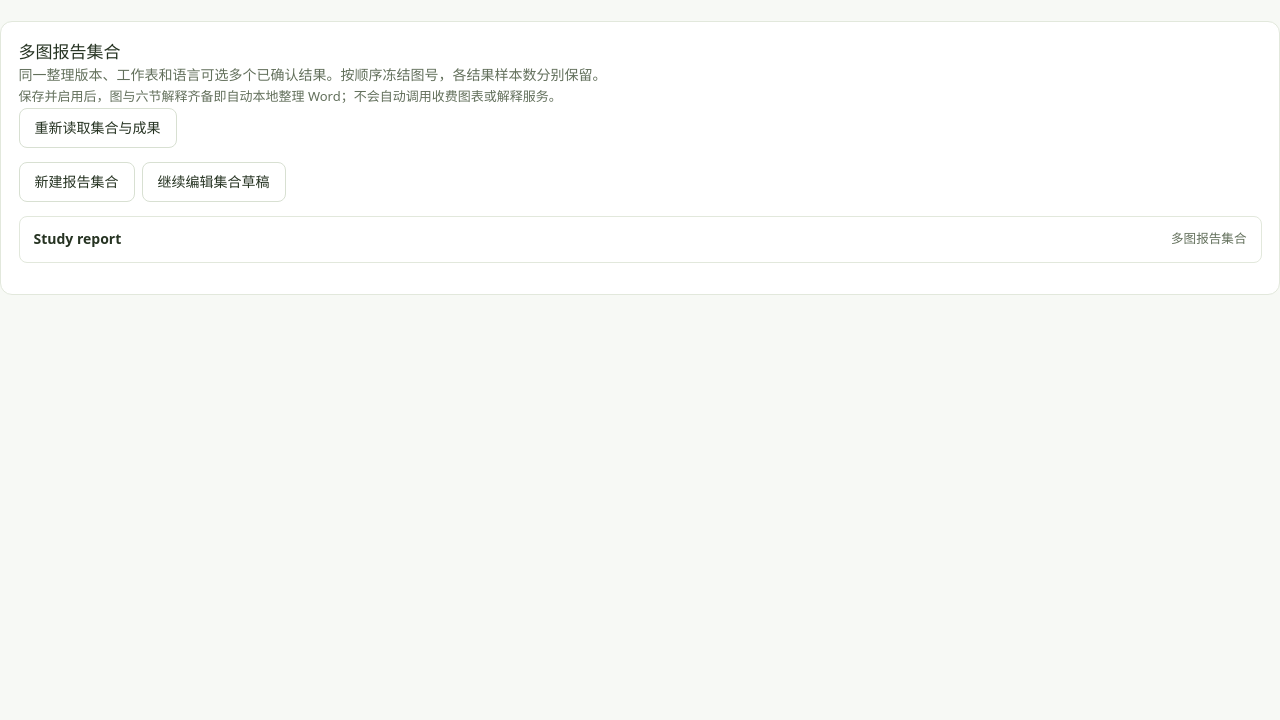
Test: finishing a requested collection preview never takes the user back from the list
Click the button with aria-label "打开报告集合 Study report" at coordinates (77, 239), box [18,216,1262,263]
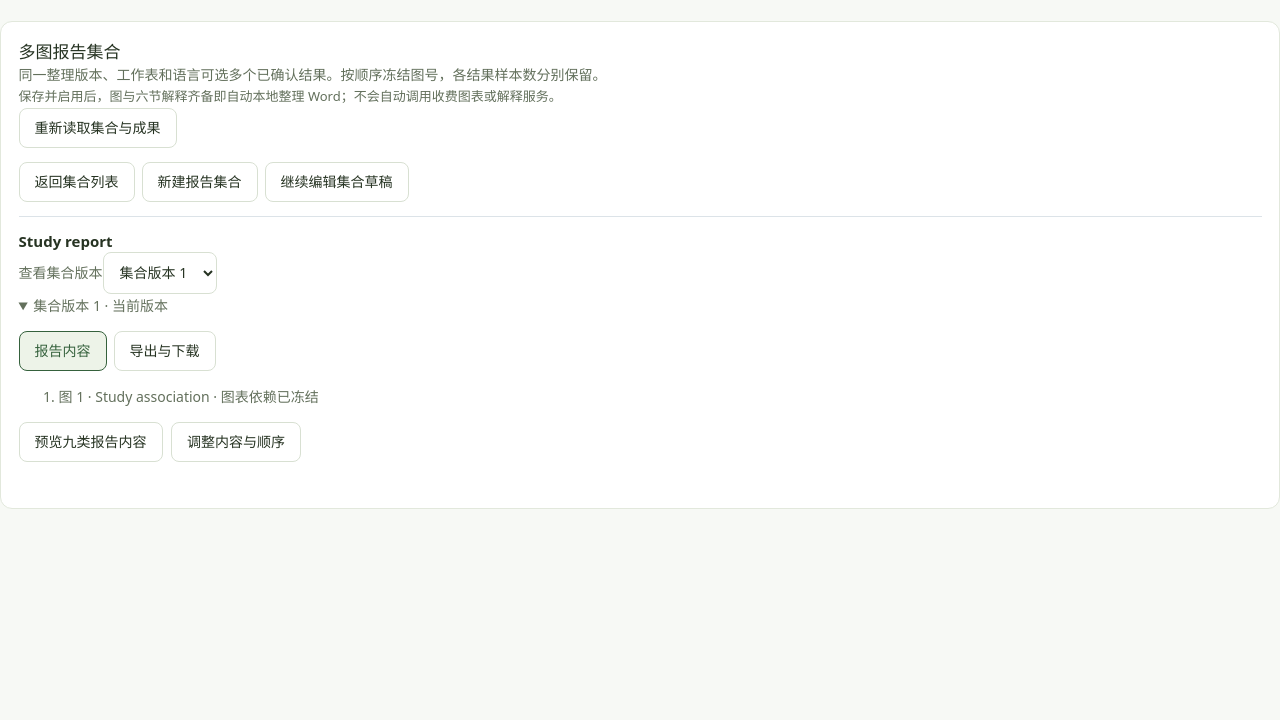
Click the button "预览九类报告内容" at coordinates (90, 442), box [18,422,162,462]
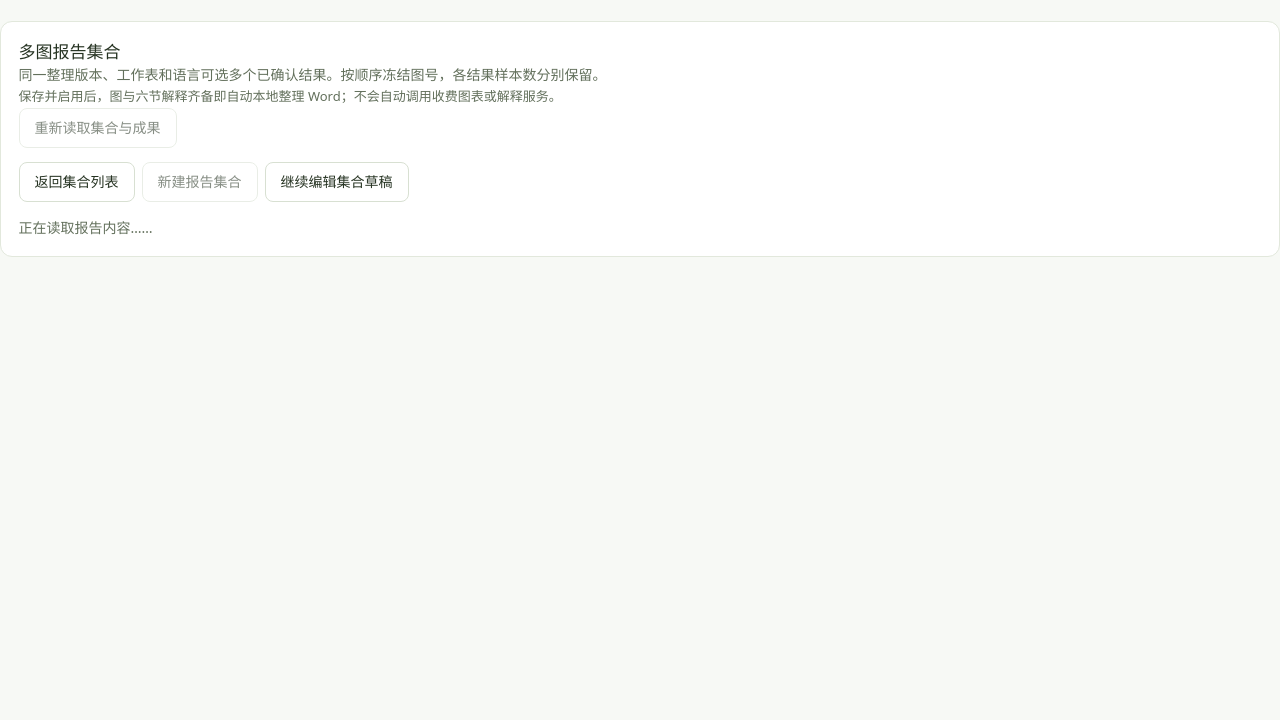
Click the button "返回集合列表" at coordinates (76, 182), box [18,162,134,202]
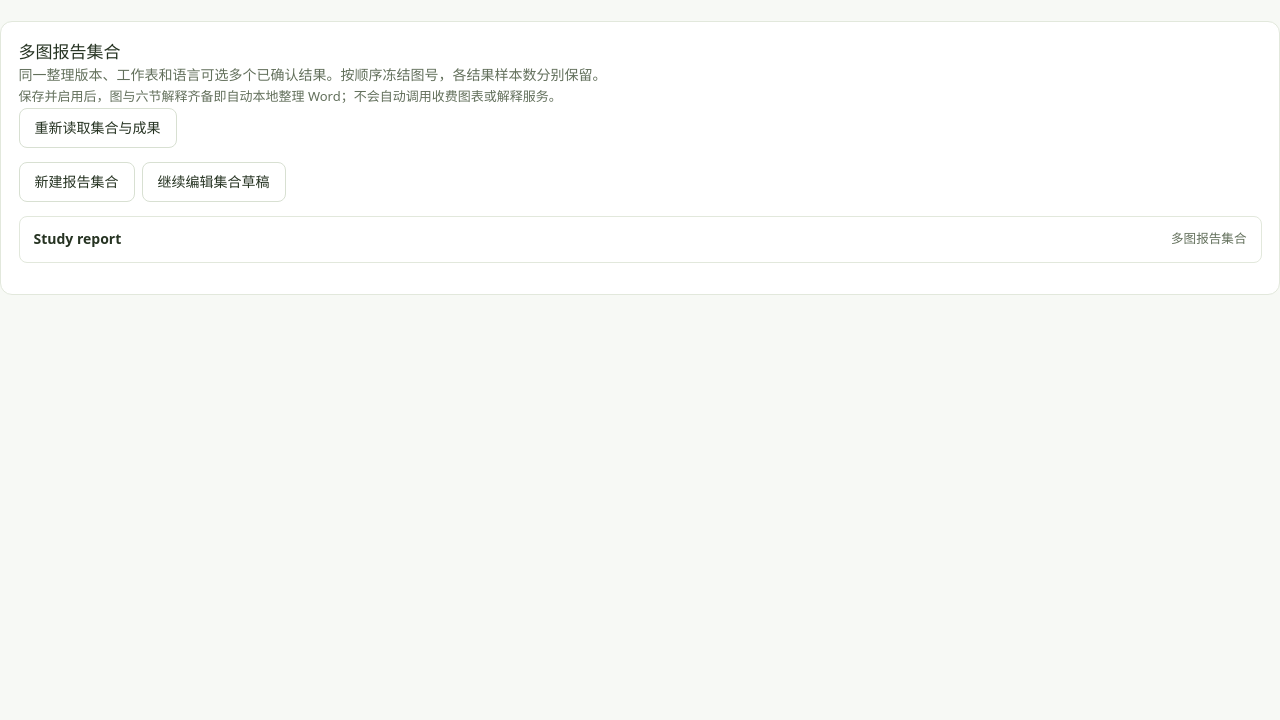
Check: the button with aria-label "打开报告集合 Study report" is shown, box [18,216,1262,263]
